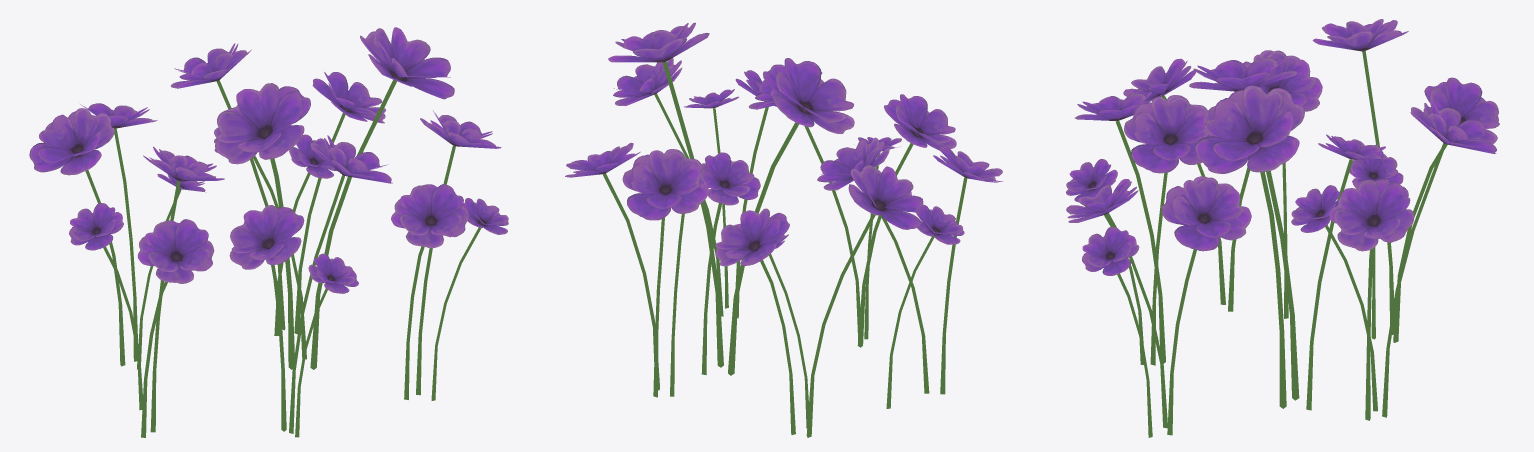
Rendered from MEADOW_SM_Flower_02_03.gltf.
The picture shows the model from 3 angles, left to right: view 1: azimuth 30°, elevation 25°; view 2: azimuth 150°, elevation 25°; view 3: azimuth 270°, elevation 25°; orthographic projection. The views are drawn at different scales.
Parts seen in each view (by area): view 1: SM_Flower_02_03_LOD0; view 2: SM_Flower_02_03_LOD0; view 3: SM_Flower_02_03_LOD0.
Part boxes in pixels (bbox=[...]): SM_Flower_02_03_LOD0: bbox=[29, 27, 508, 437]; SM_Flower_02_03_LOD0: bbox=[565, 22, 1003, 437]; SM_Flower_02_03_LOD0: bbox=[1066, 19, 1499, 437].
Size of the model in its own units: 1.08 by 0.8614 by 1.01.
Materials: 1 (1 with a texture image).
